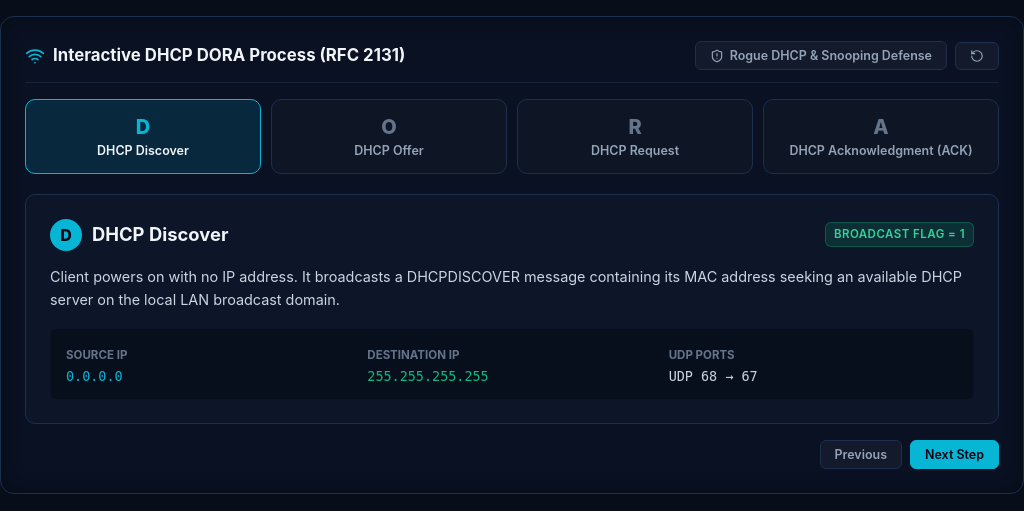
Test: Step 3 — Interactive Diagrams › renders DHCPSequenceDiagram with DORA letters and rogue mode
expect the text "Interactive DHCP DORA Process (RFC 2131)" is shown: met, box x1=53 y1=43 x2=405 y2=68
Note: Click Offer
Click the text "DHCP Offer". click: click(389, 150)
box: x1=354 y1=143 x2=424 y2=158
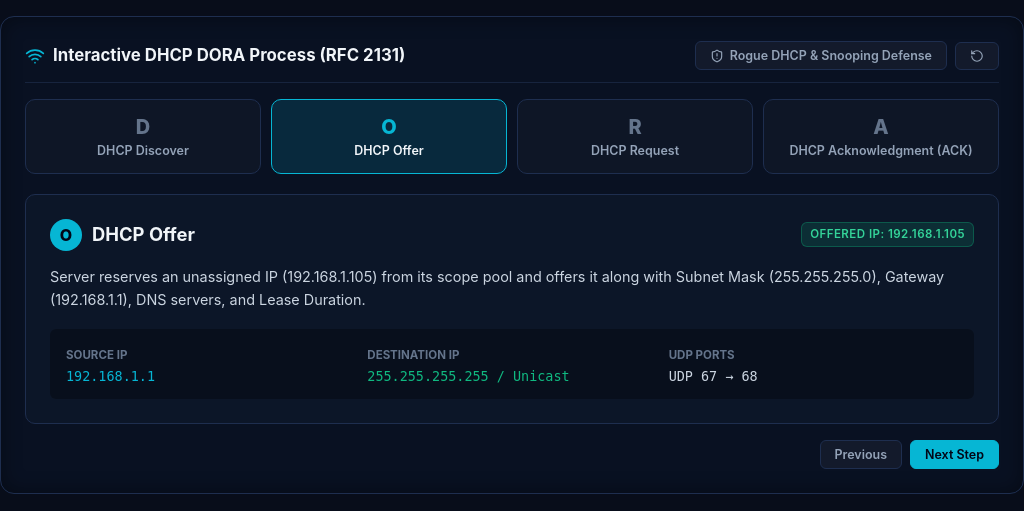
Note: Toggle rogue mode
Click the button "Rogue DHCP & Snooping Defense". click: click(821, 56)
box: x1=695 y1=41 x2=947 y2=70
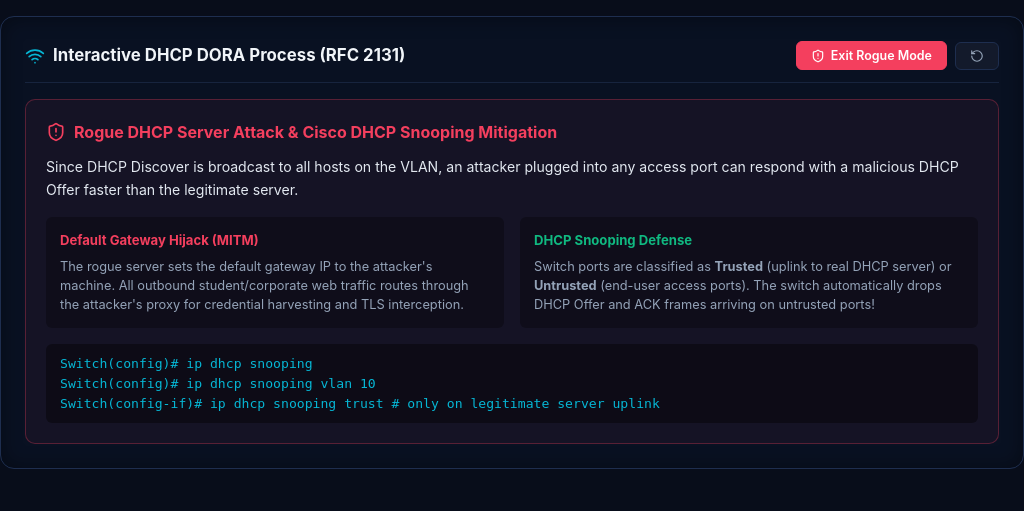
expect the text "Rogue DHCP Server Attack & Cisco DHCP Snooping Mitigation" is shown: met, box x1=74 y1=120 x2=557 y2=144
